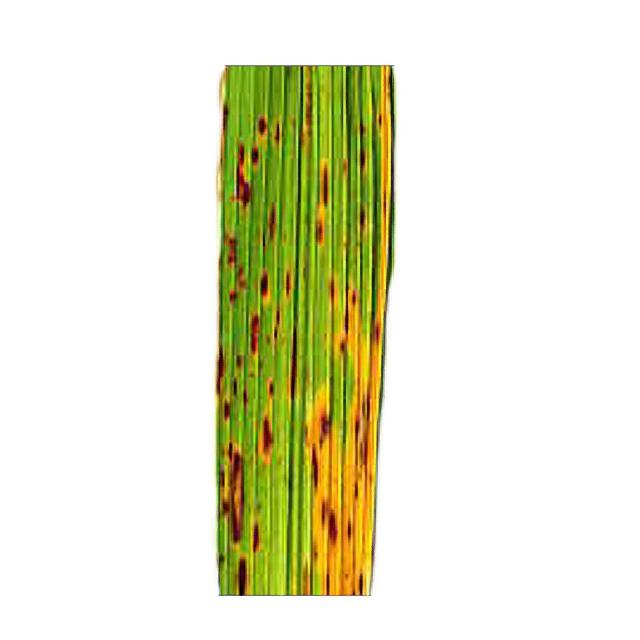Narrow brown: (187, 35, 473, 622)
